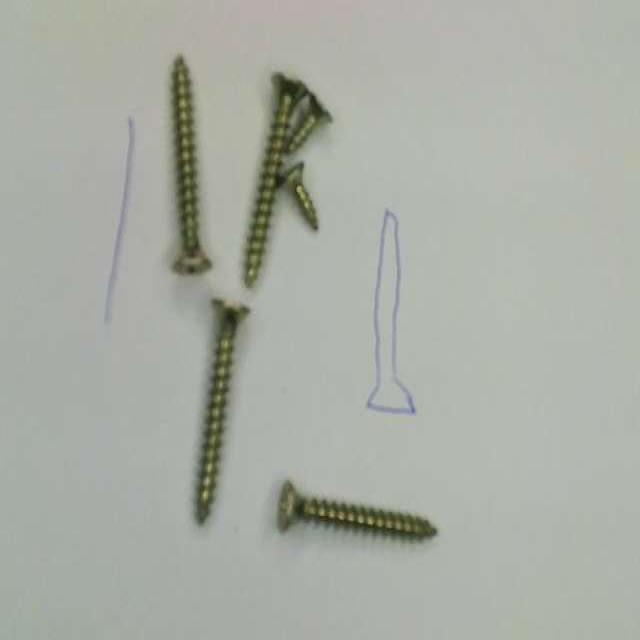Parafuso: (244, 73, 307, 287), (196, 300, 248, 523), (279, 480, 436, 539), (173, 56, 211, 273), (286, 92, 332, 152), (277, 163, 317, 229)
